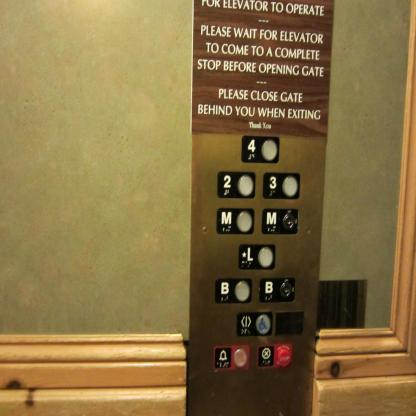2: (216, 170, 257, 199)
3: (262, 171, 301, 200)
4: (241, 135, 280, 165)
B: (258, 276, 296, 304), (215, 277, 252, 305)
L: (238, 244, 276, 271)
M: (216, 206, 255, 236), (260, 207, 300, 235)
alarm: (214, 346, 232, 368)
blur: (232, 347, 249, 368)
open: (236, 311, 273, 338)
stop: (257, 345, 275, 367)
text_stop: (276, 345, 292, 368)
